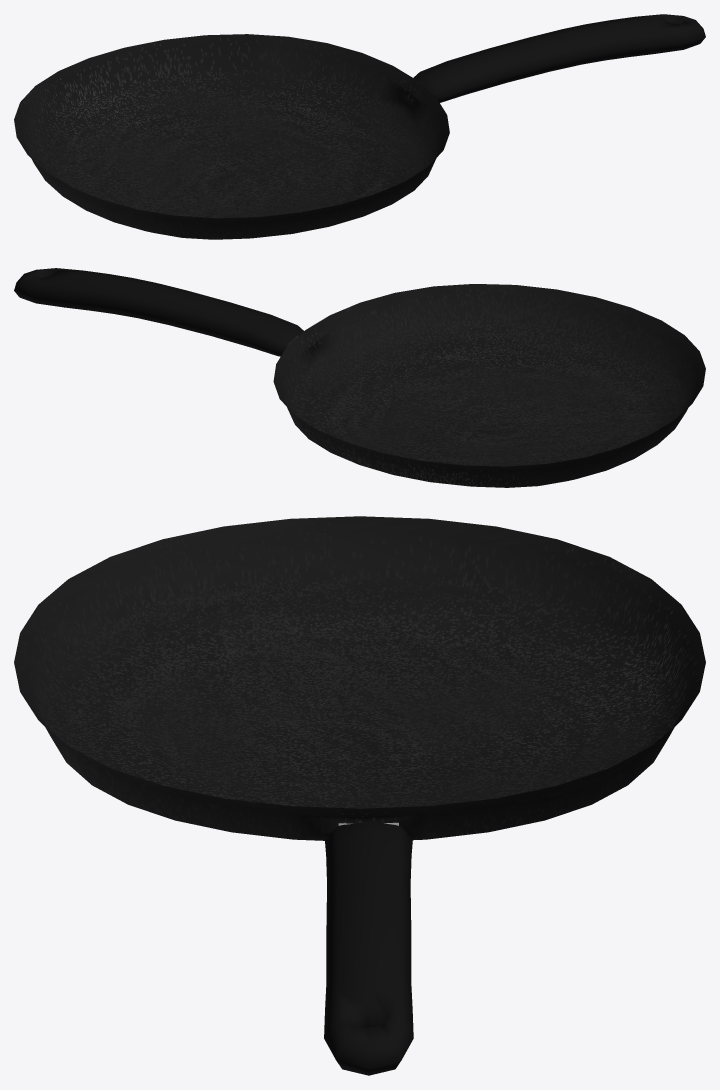
Rendered from pan.fbx.
The picture shows the model from 3 angles, top to bottom: view 1: azimuth 30°, elevation 25°; view 2: azimuth 150°, elevation 25°; view 3: azimuth 270°, elevation 25°; orthographic projection. The views are drawn at different scales.
Visible parts, largest first — view 1: Pan; view 2: Pan; view 3: Pan.
Boxes of the visible parts, x1,y1,x2,y2 form: Pan: (14,14,705,239); Pan: (14,268,705,487); Pan: (14,516,705,1075).
Size of the model in its own units: 516 by 46.65 by 291.
Materials: 1 (1 with a texture image).
